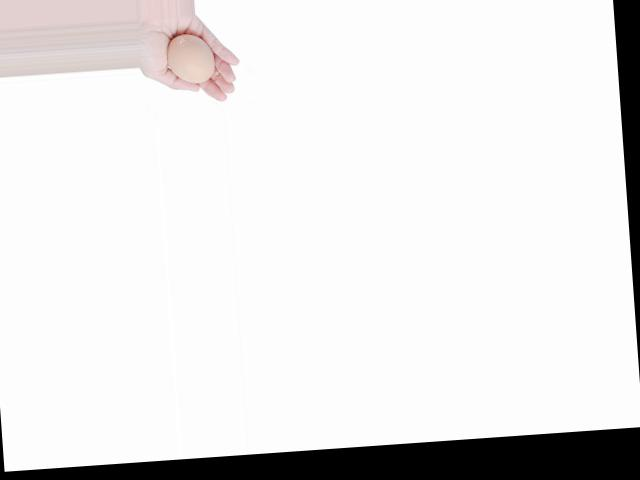egg: (166, 32, 216, 84)
